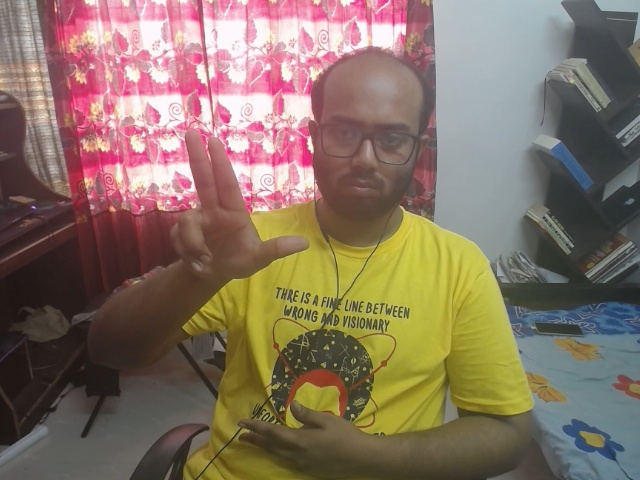eight: (146, 121, 318, 301)
